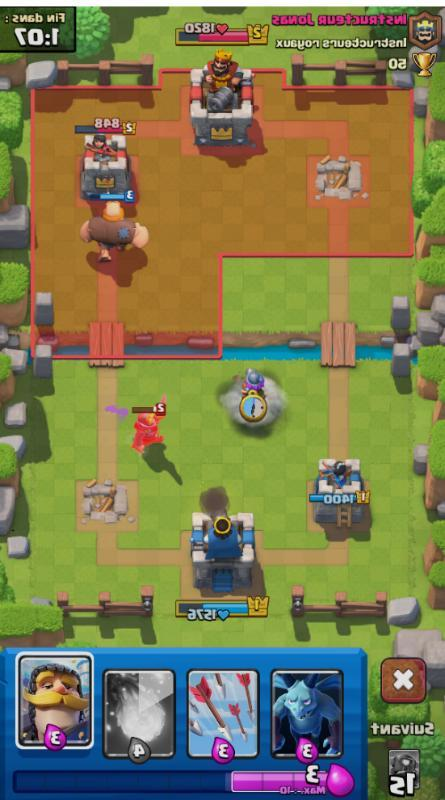enemy_knight: (127, 398, 176, 461)
player_giant: (76, 194, 153, 263)
player_musketeer: (238, 361, 270, 401)
